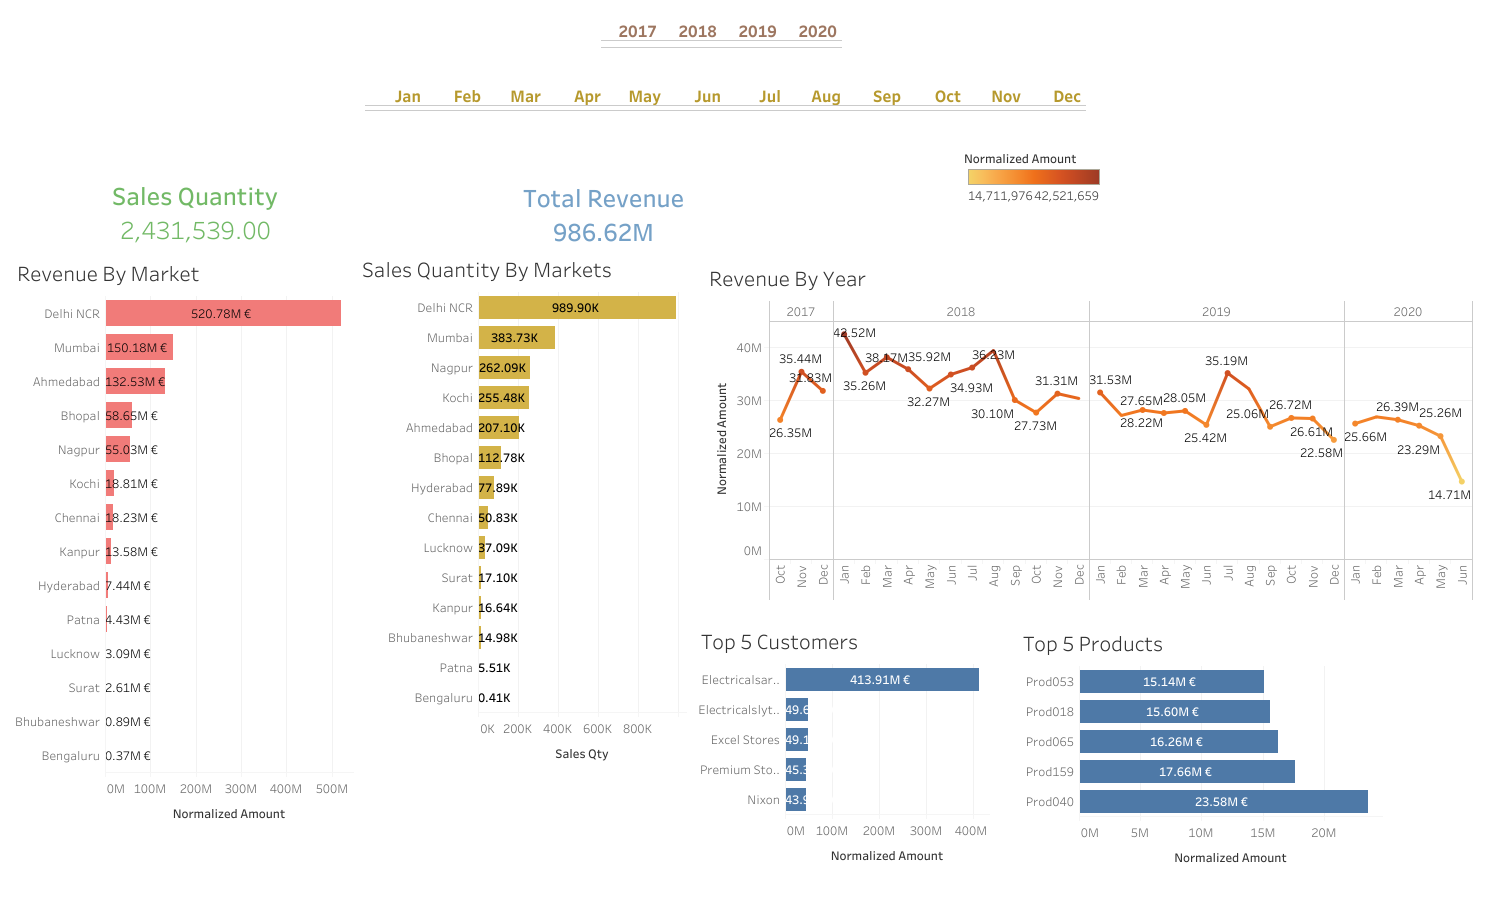

What the dashboard file says about the page in this screenshot:
{"tool":"tableau","page":{"name":"Dashboard 1","canvas":[1500,900],"ordinal":0},"visuals":[{"type":"worksheet","title":"Year","mark":"Automatic","cols":["cy_date"],"box":[601,5,307,119]},{"type":"worksheet","title":"Month","mark":"Automatic","cols":["cy_date"],"box":[365,70,890,290]},{"type":"legend","title":"Revenue By Year","param":"[federated.14lxmoy15hps1e1aouetc1z0o18k].[sum:Calculation_2627310159667200:qk]","box":[964,145,140,76]},{"type":"worksheet","title":"Quantity","mark":"Automatic","box":[106,163,500,299]},{"type":"worksheet","title":"Revenue","mark":"Automatic","box":[514,165,500,299]},{"type":"worksheet","title":"Sales Quantity By Markets","mark":"Automatic","rows":["markets_name"],"cols":["sales_qty"],"box":[358,249,328,609]},{"type":"worksheet","title":"Revenue By Market","mark":"Automatic","rows":["markets_name"],"cols":["Calculation_2627310159667200"],"box":[13,253,340,622]},{"type":"worksheet","title":"Revenue By Year","mark":"Automatic","rows":["Calculation_2627310159667200"],"cols":["cy_date","cy_date"],"box":[705,258,768,342]}]}

Visuals, with their boxes in screenshot pixels (x1, y1, x2, y2), scaled from the page's 1500x900 canvas onto the 1499x899 screenshot:
"Year" worksheet: detection(601, 5, 907, 124)
"Month" worksheet: detection(365, 70, 1254, 360)
"Revenue By Year" legend: detection(963, 145, 1103, 221)
"Quantity" worksheet: detection(106, 163, 606, 461)
"Revenue" worksheet: detection(514, 165, 1013, 463)
"Sales Quantity By Markets" worksheet: detection(358, 249, 686, 857)
"Revenue By Market" worksheet: detection(13, 253, 353, 874)
"Revenue By Year" worksheet: detection(705, 258, 1472, 599)
